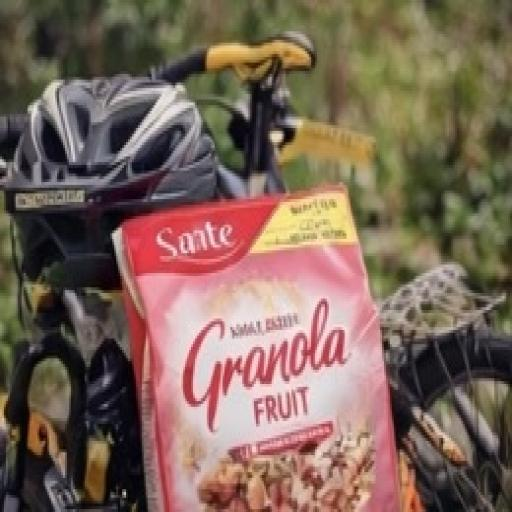granola: (89, 164, 423, 512)
